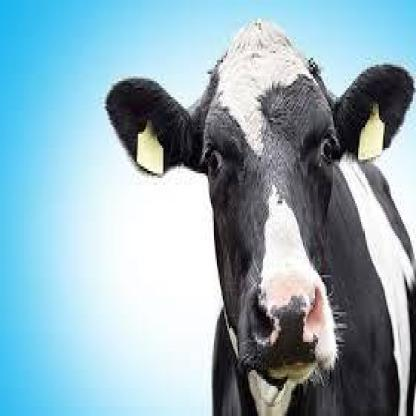cow: (107, 27, 416, 416)
